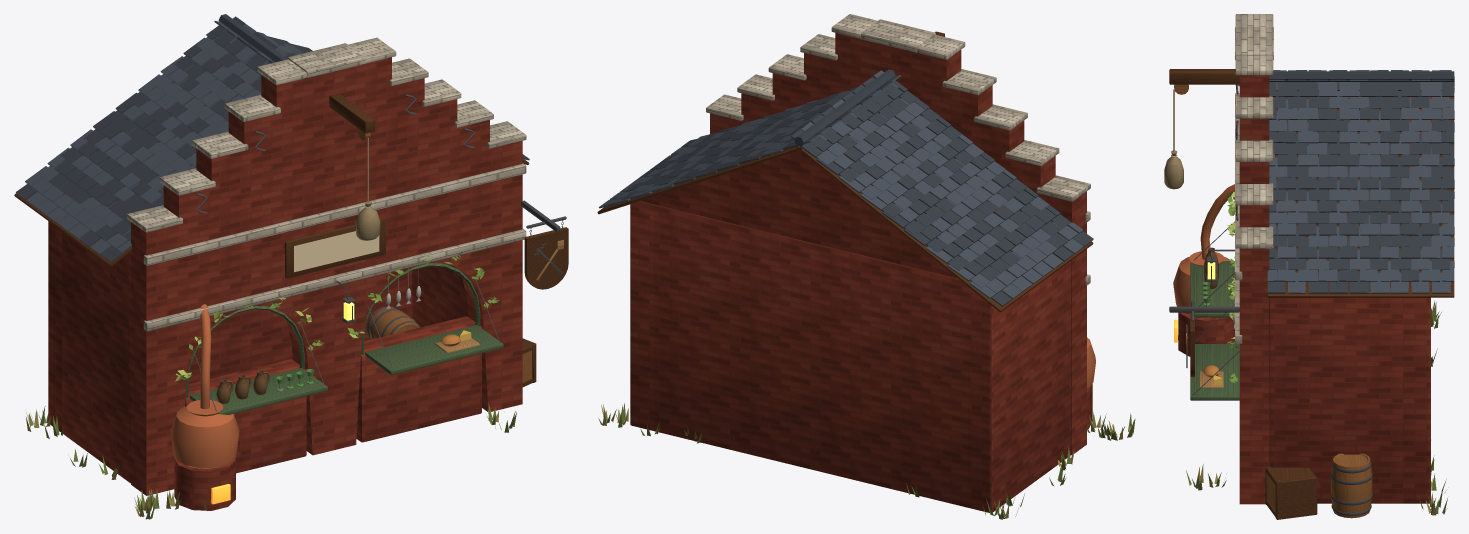
File: tavern-flemish.glb
3 views of the same model, side by side, from view 1: azimuth 30°, elevation 25°; view 2: azimuth 150°, elevation 25°; view 3: azimuth 270°, elevation 25° (orthographic). The views are drawn at different scales.
Parts seen in each view (by area): view 1: tavern_flemish, sign_face; view 2: tavern_flemish; view 3: tavern_flemish.
Boxes of the visible parts, <box> form: tavern_flemish: <box>14,14,568,519</box>; sign_face: <box>294,231,379,272</box>; tavern_flemish: <box>597,14,1135,519</box>; tavern_flemish: <box>1164,14,1454,519</box>.
Bounding box in the file's own units: 8.5 × 7.15 × 5.02.
25 materials, 7 textured.
